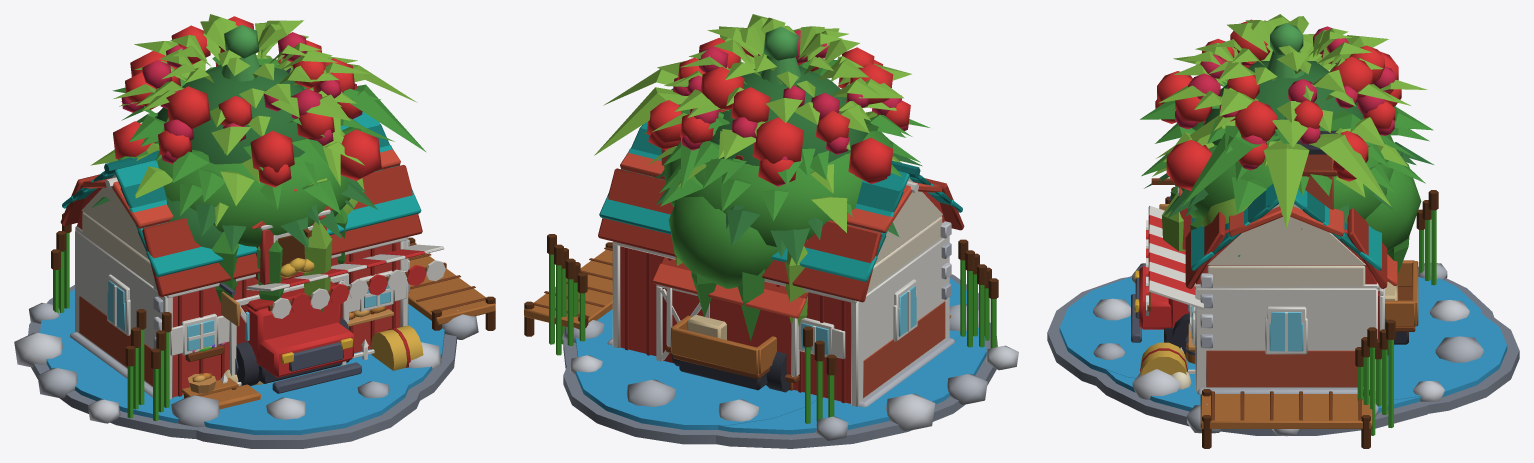
Rendered from farm-kit.glb.
3 views of the same model, side by side, from view 1: azimuth 30°, elevation 25°; view 2: azimuth 150°, elevation 25°; view 3: azimuth 270°, elevation 25° (orthographic). The views are drawn at different scales.
Visible parts, largest first — view 1: pond, cow_barn, bakery, cute_apple, cute_apple_mid, cute_willow, truck, cute_palm, cute_cherry_mid, cute_pine, cute_cherry, cute_round; view 2: pond, cow_barn, cute_apple, cute_apple_mid, bakery, cute_willow, coop, cute_round, truck, cute_palm, cute_cherry, cute_cherry_mid (+1 smaller); view 3: pond, bakery, cow_barn, cute_apple_mid, cute_apple, cute_palm, truck, cute_willow, cute_round, cute_cherry, cute_cherry_mid, cute_pine.
Part boxes in pixels (<box>): pond: <box>14,213,495,448</box>; cow_barn: <box>60,85,423,409</box>; bakery: <box>62,68,446,398</box>; cute_apple: <box>119,21,366,253</box>; cute_apple_mid: <box>90,14,394,248</box>; cute_willow: <box>155,116,350,312</box>; truck: <box>235,281,361,393</box>; cute_palm: <box>257,58,426,186</box>; cute_cherry_mid: <box>142,32,357,140</box>; cute_pine: <box>221,24,259,81</box>; cute_cherry: <box>121,45,362,164</box>; cute_round: <box>166,178,364,248</box>; pond: <box>524,234,1018,448</box>; cow_barn: <box>598,152,964,406</box>; cute_apple: <box>647,17,920,257</box>; cute_apple_mid: <box>643,14,929,265</box>; bakery: <box>599,88,962,407</box>; cute_willow: <box>664,124,893,340</box>; coop: <box>652,257,807,390</box>; cute_round: <box>668,196,778,288</box>; truck: <box>671,315,788,392</box>; cute_palm: <box>594,69,723,189</box>; cute_cherry: <box>673,43,908,186</box>; cute_cherry_mid: <box>690,30,901,160</box>; pond: <box>1047,187,1519,448</box>; bakery: <box>1146,131,1381,394</box>; cow_barn: <box>1140,117,1387,391</box>; cute_apple_mid: <box>1140,14,1433,256</box>; cute_apple: <box>1152,16,1416,217</box>; cute_palm: <box>1156,110,1416,228</box>; truck: <box>1131,260,1418,358</box>; cute_willow: <box>1162,121,1409,274</box>; cute_round: <box>1201,162,1421,252</box>; cute_cherry: <box>1175,38,1395,170</box>; cute_cherry_mid: <box>1188,26,1385,144</box>; cute_pine: <box>1267,23,1304,78</box>.
Bounding box in the file's own units: 7.73 × 7.07 × 7.7.
